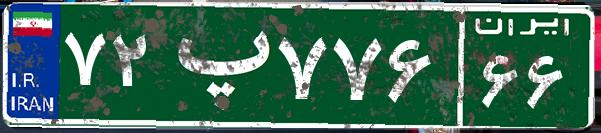2: (110, 28, 158, 105)
6: (385, 28, 445, 110), (475, 38, 525, 113), (525, 38, 570, 115)
7: (273, 28, 330, 110), (330, 28, 385, 110), (57, 26, 110, 107)
پ: (158, 15, 273, 115)
